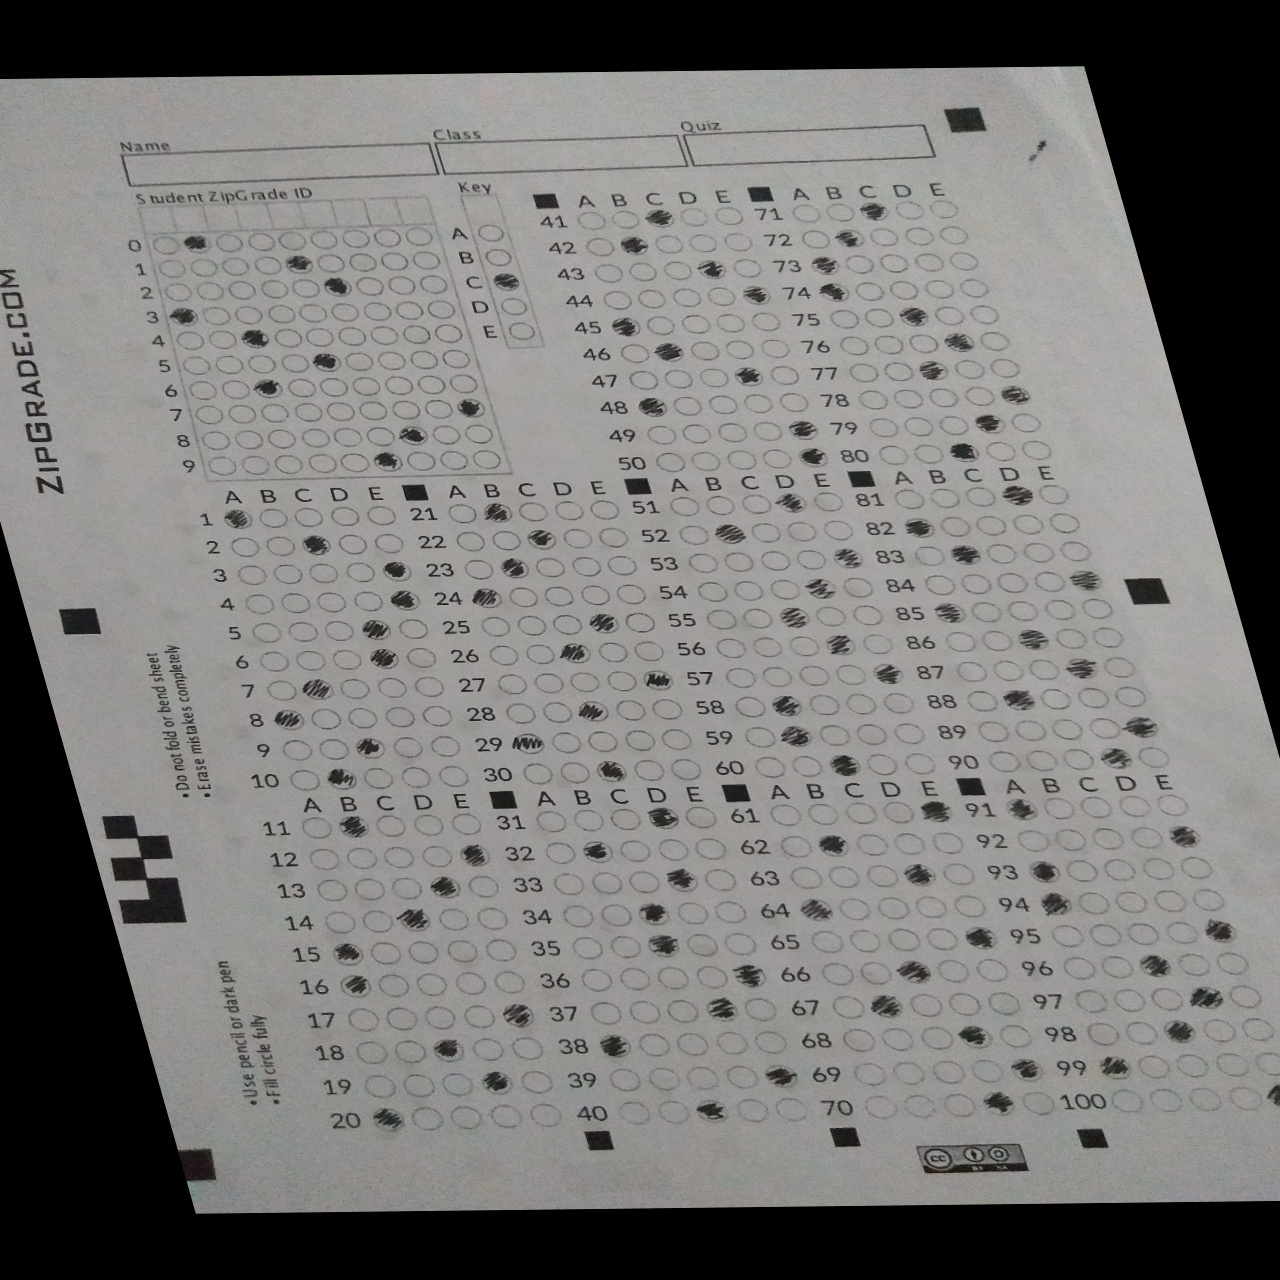not-c: (881, 1058, 930, 1085), (354, 908, 401, 935), (700, 870, 748, 896), (832, 897, 880, 922), (839, 930, 885, 956), (883, 486, 930, 512), (913, 572, 960, 598), (1055, 747, 1102, 772), (354, 1073, 401, 1098), (348, 1039, 395, 1064), (339, 1005, 386, 1030), (307, 877, 354, 903), (343, 877, 390, 903), (738, 996, 785, 1022), (771, 1096, 818, 1122), (709, 1030, 756, 1056), (653, 838, 700, 864), (843, 1060, 890, 1085), (830, 1026, 877, 1051), (824, 995, 871, 1021), (931, 958, 978, 983), (942, 990, 989, 1016), (926, 1060, 973, 1085), (912, 1024, 959, 1050), (839, 801, 886, 826), (873, 897, 920, 922), (859, 863, 906, 888), (852, 960, 899, 986), (554, 903, 599, 930), (1171, 951, 1216, 978), (1160, 919, 1205, 946), (1211, 951, 1255, 978), (881, 930, 930, 954), (969, 719, 1015, 744), (316, 910, 362, 935), (295, 815, 341, 840), (370, 972, 416, 998), (442, 938, 488, 964), (651, 965, 696, 990), (529, 808, 574, 833), (769, 836, 815, 862), (903, 544, 949, 568), (978, 749, 1024, 774), (336, 846, 383, 871), (610, 966, 656, 990), (445, 812, 492, 837), (747, 1029, 794, 1054), (728, 1098, 775, 1123), (719, 1065, 765, 1090), (689, 967, 736, 992), (719, 933, 765, 958), (712, 900, 758, 925), (693, 837, 740, 862), (679, 804, 726, 829), (812, 961, 859, 986), (799, 930, 846, 954), (781, 866, 828, 891), (765, 803, 812, 828), (849, 832, 896, 857), (802, 804, 849, 829), (823, 864, 870, 888), (417, 1005, 462, 1030), (681, 1065, 726, 1091), (567, 808, 612, 833), (1196, 1015, 1240, 1041), (1170, 1054, 1214, 1080), (1110, 890, 1155, 915), (1149, 888, 1193, 914), (1136, 856, 1180, 881), (1176, 856, 1220, 881), (944, 658, 989, 682), (1017, 748, 1063, 772), (1080, 715, 1125, 740), (1068, 685, 1114, 709), (300, 846, 346, 871), (387, 1039, 433, 1063), (381, 1005, 427, 1029), (452, 1005, 498, 1029), (442, 1105, 488, 1130), (433, 1073, 478, 1097), (504, 1036, 550, 1061), (489, 971, 535, 995), (459, 874, 505, 899), (658, 999, 703, 1023), (641, 1065, 687, 1090), (622, 1000, 668, 1024), (547, 874, 593, 899), (680, 934, 726, 959), (673, 903, 719, 927), (966, 1058, 1012, 1083), (904, 993, 949, 1017), (872, 1027, 918, 1051), (450, 971, 493, 996), (479, 937, 523, 962), (1208, 1051, 1252, 1077), (1145, 986, 1189, 1012), (1126, 922, 1170, 948), (1124, 828, 1167, 853), (1112, 795, 1156, 821), (1151, 794, 1194, 819), (1226, 983, 1269, 1009), (954, 689, 1001, 713), (622, 872, 669, 896), (935, 629, 980, 654), (933, 515, 978, 539), (280, 768, 325, 792), (397, 1074, 442, 1098), (365, 941, 409, 966), (410, 973, 455, 998), (383, 878, 428, 903), (368, 812, 413, 837), (563, 937, 607, 961), (602, 1068, 647, 1092), (670, 1033, 715, 1057), (651, 1099, 695, 1124), (633, 1033, 678, 1057), (606, 806, 651, 831), (985, 658, 1030, 681), (617, 727, 662, 750), (429, 907, 475, 931), (583, 1001, 628, 1024), (512, 1069, 558, 1092), (583, 873, 628, 897), (538, 840, 584, 864), (840, 692, 884, 716), (406, 1108, 449, 1132), (376, 844, 420, 869), (1098, 859, 1142, 884), (1235, 1016, 1279, 1041), (1186, 888, 1230, 913), (1146, 1088, 1187, 1114), (1121, 1020, 1162, 1046), (817, 520, 862, 544), (1039, 597, 1083, 620), (679, 552, 723, 576), (660, 493, 704, 517), (858, 633, 903, 656), (862, 753, 906, 776), (366, 504, 410, 527), (515, 762, 559, 785), (595, 526, 640, 550), (654, 727, 699, 750), (539, 585, 584, 608), (615, 840, 660, 864), (406, 812, 450, 836), (465, 1039, 510, 1062), (484, 1104, 529, 1128), (574, 968, 619, 992), (613, 1103, 658, 1126), (601, 935, 646, 959), (593, 903, 638, 926), (1225, 1087, 1267, 1111), (1108, 988, 1150, 1013), (858, 1094, 898, 1119), (515, 641, 560, 663), (846, 604, 890, 627), (1024, 659, 1068, 682), (1034, 686, 1077, 709), (966, 599, 1009, 622), (804, 694, 847, 717), (781, 635, 824, 659), (701, 495, 744, 518), (785, 753, 829, 776), (719, 666, 762, 689), (783, 520, 826, 544), (890, 721, 933, 744), (425, 736, 469, 760), (331, 531, 374, 554), (358, 765, 401, 789), (321, 618, 365, 641), (274, 592, 318, 615), (270, 563, 313, 586), (250, 509, 293, 532), (313, 738, 356, 762), (252, 651, 295, 674), (233, 565, 277, 588), (535, 699, 578, 722), (530, 670, 573, 694), (503, 586, 546, 610), (489, 673, 532, 696), (451, 557, 495, 580), (485, 529, 529, 552), (621, 611, 665, 634), (577, 586, 620, 610), (602, 670, 646, 694), (606, 556, 649, 579), (545, 613, 588, 636), (529, 557, 572, 580), (416, 845, 459, 869), (404, 940, 448, 964), (525, 1104, 568, 1128), (971, 956, 1012, 981), (938, 863, 979, 887), (925, 832, 966, 857), (996, 1024, 1037, 1049), (983, 992, 1024, 1016), (1184, 1087, 1225, 1111), (1105, 1089, 1146, 1114), (1039, 796, 1080, 821), (1076, 796, 1117, 821), (1135, 1055, 1176, 1080), (1087, 922, 1128, 947), (1073, 891, 1114, 915), (474, 905, 512, 931), (1046, 719, 1090, 741), (953, 572, 998, 594), (810, 606, 855, 628), (813, 723, 858, 745), (745, 522, 790, 544), (734, 724, 778, 747), (708, 636, 753, 659), (670, 523, 715, 545), (789, 549, 833, 571), (395, 765, 440, 788), (339, 560, 383, 583), (343, 708, 388, 730), (311, 592, 355, 614), (305, 561, 349, 584), (305, 707, 349, 729), (380, 707, 424, 729), (563, 669, 607, 692), (543, 730, 587, 753), (508, 614, 552, 636), (550, 501, 594, 523), (629, 641, 674, 663), (983, 542, 1026, 565), (726, 697, 768, 721), (403, 645, 445, 668), (240, 621, 282, 645), (222, 536, 264, 559), (553, 761, 595, 784), (479, 645, 522, 668), (438, 502, 481, 525), (669, 760, 712, 783), (900, 1095, 940, 1119), (1047, 925, 1087, 949), (1014, 828, 1054, 852), (1050, 828, 1090, 852), (1005, 599, 1048, 621), (1049, 625, 1092, 647), (975, 629, 1019, 652), (990, 571, 1034, 593), (971, 515, 1014, 537), (795, 663, 838, 686), (756, 549, 799, 571), (719, 551, 762, 573), (736, 608, 779, 631), (754, 665, 797, 687), (831, 663, 874, 686), (851, 723, 894, 745), (372, 676, 415, 699), (389, 736, 433, 758), (418, 704, 462, 727), (411, 676, 455, 699), (334, 676, 377, 699), (327, 649, 370, 672), (258, 536, 301, 558), (282, 622, 326, 645), (275, 740, 319, 762), (237, 594, 280, 617), (583, 499, 626, 522), (515, 502, 558, 524), (498, 700, 542, 722), (471, 617, 515, 639), (450, 531, 493, 553), (651, 696, 694, 719), (613, 583, 656, 605), (568, 557, 612, 579), (558, 526, 601, 549), (610, 697, 653, 720), (911, 896, 952, 919), (879, 802, 920, 825), (937, 1092, 978, 1116), (1017, 1090, 1058, 1114), (1083, 1022, 1124, 1046), (1071, 988, 1112, 1012), (1058, 956, 1099, 980), (1087, 828, 1128, 851), (1060, 858, 1101, 881), (839, 577, 881, 599), (806, 492, 849, 515), (1009, 720, 1051, 742), (764, 578, 806, 600), (745, 756, 788, 778), (696, 607, 738, 629), (692, 579, 734, 601), (877, 692, 921, 713), (350, 590, 393, 612), (390, 618, 433, 640), (370, 533, 413, 556), (290, 505, 332, 527), (256, 680, 298, 702), (583, 730, 625, 753), (592, 642, 636, 663), (629, 760, 672, 782), (1097, 956, 1139, 979), (892, 832, 932, 856), (949, 894, 989, 918), (727, 581, 770, 602), (434, 765, 477, 787), (290, 651, 333, 672), (922, 928, 964, 951), (737, 493, 779, 515), (745, 636, 788, 658), (901, 753, 944, 774), (210, 232, 248, 254), (925, 486, 964, 509), (712, 422, 750, 444), (501, 321, 539, 343), (241, 231, 281, 252), (930, 305, 969, 326), (254, 278, 292, 300), (409, 251, 447, 273), (660, 259, 697, 281), (471, 222, 509, 244), (956, 277, 994, 299), (937, 224, 974, 246), (428, 424, 467, 445), (151, 259, 190, 280), (183, 381, 222, 402), (222, 280, 260, 301), (215, 256, 253, 277), (263, 429, 301, 450), (241, 354, 280, 375), (271, 452, 309, 474), (257, 402, 295, 423), (237, 456, 275, 477), (230, 429, 268, 450), (216, 380, 254, 401), (210, 354, 248, 375), (359, 302, 397, 324), (350, 277, 389, 298), (346, 253, 384, 274), (311, 253, 349, 274), (326, 302, 365, 324), (414, 375, 452, 396), (407, 348, 445, 369), (401, 451, 440, 472), (380, 377, 418, 399), (372, 350, 410, 372), (335, 451, 374, 472), (302, 452, 341, 474), (290, 400, 328, 421), (282, 377, 321, 399), (399, 324, 437, 345), (469, 449, 508, 470), (462, 423, 501, 444), (434, 449, 472, 470), (747, 311, 785, 332), (775, 392, 813, 413), (678, 314, 716, 335), (651, 234, 689, 256), (678, 423, 716, 444), (652, 452, 690, 474), (888, 388, 927, 409), (877, 361, 915, 382), (857, 309, 896, 331), (842, 254, 880, 275), (836, 334, 874, 355), (795, 229, 833, 250), (712, 206, 750, 227), (877, 254, 915, 275), (945, 248, 983, 270), (924, 198, 962, 219), (1082, 595, 1121, 617), (1085, 626, 1124, 647), (1032, 572, 1070, 593), (1019, 543, 1058, 563), (368, 227, 406, 248), (273, 230, 311, 251), (147, 234, 184, 256), (212, 354, 250, 375), (204, 328, 241, 349), (199, 305, 237, 326), (247, 254, 285, 275), (263, 304, 300, 325), (231, 305, 268, 326), (335, 328, 373, 349), (274, 353, 312, 374), (302, 327, 340, 348), (295, 302, 333, 324), (435, 348, 472, 369), (388, 400, 425, 421), (361, 427, 399, 448), (324, 399, 361, 420), (295, 427, 333, 448), (374, 252, 411, 273), (729, 258, 767, 279), (719, 339, 756, 360), (758, 339, 796, 360), (765, 365, 803, 386), (760, 449, 797, 470), (738, 392, 776, 413), (695, 368, 733, 389), (668, 288, 706, 309), (607, 209, 645, 230), (644, 316, 681, 338), (660, 369, 697, 390), (688, 450, 726, 471), (615, 342, 653, 363), (581, 236, 619, 257), (574, 210, 612, 231), (479, 247, 517, 268), (899, 417, 937, 438), (869, 335, 906, 356), (874, 444, 912, 465), (855, 390, 892, 411), (826, 309, 864, 331), (683, 233, 721, 254), (903, 227, 940, 248), (885, 280, 922, 301), (921, 278, 959, 299), (933, 414, 971, 435), (960, 384, 998, 406), (980, 440, 1017, 461), (1009, 411, 1047, 433), (961, 486, 999, 508), (1036, 485, 1074, 506), (821, 202, 858, 223), (1137, 747, 1175, 768), (1111, 687, 1149, 708), (1103, 658, 1141, 679), (1044, 513, 1082, 535), (382, 275, 420, 297), (1248, 1049, 1280, 1074), (305, 229, 343, 248), (400, 227, 438, 247), (414, 274, 452, 294), (203, 455, 241, 475), (171, 331, 210, 350), (189, 281, 227, 301), (156, 282, 195, 302), (223, 406, 261, 425), (421, 400, 459, 420), (366, 327, 404, 347), (712, 314, 750, 334), (720, 448, 758, 468), (685, 341, 723, 361), (624, 370, 662, 390), (598, 290, 636, 309), (863, 418, 901, 438), (789, 203, 828, 223), (678, 207, 716, 227), (720, 233, 758, 253), (903, 333, 941, 353), (924, 386, 962, 406), (966, 304, 1005, 324), (338, 227, 374, 248), (355, 400, 392, 421), (314, 376, 350, 397), (425, 299, 462, 320), (669, 395, 706, 416), (978, 332, 1014, 353), (703, 286, 740, 307), (184, 258, 222, 278), (197, 431, 234, 451), (192, 406, 230, 425), (177, 355, 215, 375), (185, 258, 223, 278), (271, 328, 308, 348), (445, 373, 483, 393), (341, 352, 379, 372), (429, 324, 467, 343), (392, 301, 429, 321), (749, 421, 787, 441), (704, 395, 742, 415), (633, 290, 670, 309), (493, 297, 531, 316), (852, 282, 890, 302), (908, 444, 946, 464), (845, 363, 883, 383), (912, 253, 949, 273), (953, 359, 990, 379), (1017, 440, 1055, 459), (987, 358, 1024, 377), (892, 200, 930, 220), (867, 226, 905, 246), (1009, 515, 1047, 535), (1055, 542, 1092, 561), (288, 278, 324, 299), (348, 376, 384, 396), (328, 425, 365, 445), (621, 263, 658, 282), (642, 424, 679, 444), (588, 263, 625, 282), (327, 506, 363, 526)
taken-c: (451, 842, 498, 869), (1194, 917, 1242, 942), (1183, 985, 1231, 1010), (893, 862, 941, 887), (661, 869, 707, 896), (1092, 1053, 1138, 1080), (590, 1033, 636, 1058), (792, 897, 839, 922), (726, 964, 772, 989), (420, 874, 467, 900), (574, 837, 621, 863), (1155, 1017, 1201, 1043), (956, 925, 1003, 951), (975, 1090, 1022, 1116), (636, 932, 685, 956), (392, 908, 440, 933), (493, 1002, 542, 1027), (809, 833, 857, 858), (1022, 859, 1070, 884), (424, 1037, 470, 1063), (912, 799, 958, 825), (1010, 625, 1056, 651), (588, 757, 635, 782), (697, 995, 744, 1020), (365, 1107, 411, 1131), (331, 973, 377, 998), (325, 940, 372, 965), (999, 797, 1046, 822), (329, 813, 376, 838), (1032, 892, 1078, 917), (1133, 953, 1180, 978), (891, 959, 938, 983), (951, 1024, 998, 1049), (862, 993, 908, 1017), (755, 1063, 802, 1088), (688, 1098, 735, 1123), (581, 612, 628, 636), (294, 676, 341, 701), (816, 633, 863, 658), (1094, 745, 1141, 770), (1160, 823, 1207, 847), (266, 707, 312, 731), (348, 735, 394, 760), (772, 722, 818, 747), (318, 765, 363, 790), (568, 696, 614, 721), (824, 754, 870, 778), (629, 901, 675, 926), (472, 1070, 518, 1095), (1005, 1057, 1050, 1082), (372, 558, 417, 583), (1058, 656, 1104, 681), (998, 688, 1043, 713), (636, 804, 683, 828), (863, 661, 910, 685), (763, 694, 808, 719), (383, 587, 428, 612), (927, 601, 972, 626), (1117, 714, 1162, 738), (708, 522, 753, 546), (553, 641, 599, 665), (1062, 568, 1108, 592), (996, 483, 1040, 508), (891, 302, 934, 327), (504, 730, 549, 754), (490, 556, 535, 579), (896, 516, 940, 539), (476, 502, 520, 525), (911, 359, 955, 382), (770, 491, 813, 515), (798, 577, 842, 600), (771, 605, 815, 628), (938, 331, 981, 354), (161, 306, 204, 329), (733, 282, 776, 306), (944, 544, 988, 566), (689, 257, 731, 280), (940, 440, 983, 462), (294, 533, 338, 556), (213, 508, 257, 530), (803, 253, 846, 275), (811, 281, 855, 304), (992, 383, 1035, 406), (967, 413, 1010, 435), (850, 200, 893, 223), (355, 618, 396, 641), (363, 646, 404, 669), (467, 586, 508, 610), (636, 668, 678, 692), (783, 420, 822, 444), (519, 527, 561, 550), (612, 234, 656, 256), (632, 396, 672, 420), (826, 547, 870, 568), (277, 253, 320, 274), (647, 341, 688, 363), (307, 350, 346, 374), (826, 229, 869, 250), (604, 316, 645, 338), (792, 445, 831, 468), (236, 328, 274, 350), (730, 365, 769, 387), (247, 377, 287, 399), (316, 275, 356, 297), (486, 273, 527, 293), (393, 425, 431, 447), (639, 207, 678, 229), (368, 451, 406, 472), (449, 399, 488, 418), (177, 233, 213, 252), (1261, 1084, 1280, 1110)
